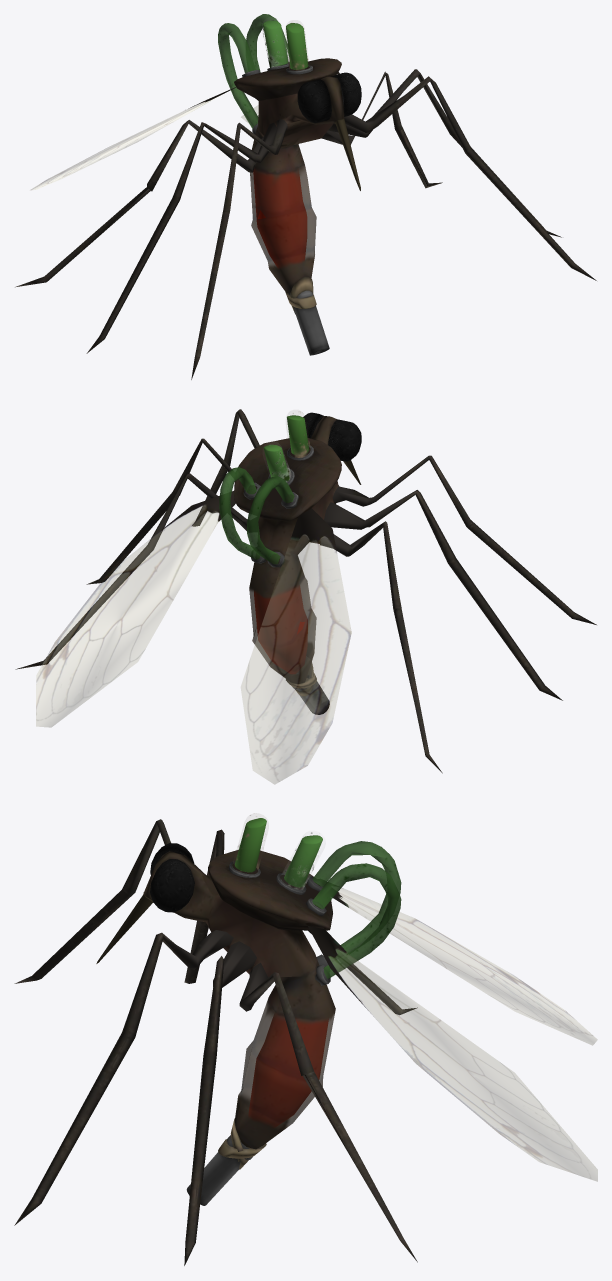
Rendered from mosquito_3D.glb.
3 renders of one model, top to bottom at view 1: azimuth 30°, elevation 25°; view 2: azimuth 150°, elevation 25°; view 3: azimuth 270°, elevation 25°, orthographic. The views are drawn at different scales.
Parts seen in each view (by area): view 1: Mosquito_Cuerpo_Mosquito_0, Interior_Liquido_Liquido_Interior_0, Mosquito_Pata_1_Izquierda_0, Mosquito_Pata_2_Derecha_0, Mosquito_Joroba_Mosquito_0, Mosquito_Pata_1_Derecha_0, Mosquito_Pata_3_Derecha_0, Mosquito_Ojos_0, Tubo_2_Tubo_Derecho_0, Mosquito_Ala_Derecha_0, Mosquito_Pata_2_Izquierda_0, Canon_Canon1_0 (+5 smaller); view 2: Mosquito_Ala_Derecha_0, Mosquito_Ala_Izquierda_0, Mosquito_Cuerpo_Mosquito_0, Mosquito_Joroba_Mosquito_0, Interior_Liquido_Liquido_Interior_0, Mosquito_Pata_2_Derecha_0, Mosquito_Pata_1_Derecha_0, Mosquito_Pata_3_Derecha_0, Mosquito_Pata_3_Izquierda_0, Tubo_2_Tubo_Derecho_0, Tubo_1_Tubo_Izquierdo_0, Mosquito_Ojos_0 (+5 smaller); view 3: Mosquito_Cuerpo_Mosquito_0, Mosquito_Ala_Izquierda_0, Mosquito_Ala_Derecha_0, Mosquito_Joroba_Mosquito_0, Interior_Liquido_Liquido_Interior_0, Mosquito_Pata_1_Izquierda_0, Mosquito_Pata_2_Izquierda_0, Mosquito_Pata_3_Izquierda_0, Tubo_1_Tubo_Izquierdo_0, Mosquito_Pata_1_Derecha_0, Tubo_2_Tubo_Derecho_0, Mosquito_Ojos_0 (+7 smaller).
Part boxes in pixels (x1,y1,x2,y2): Mosquito_Cuerpo_Mosquito_0: [250, 76, 344, 293]; Interior_Liquido_Liquido_Interior_0: [253, 169, 307, 267]; Mosquito_Pata_1_Izquierda_0: [344, 76, 596, 280]; Mosquito_Pata_2_Derecha_0: [86, 122, 276, 353]; Mosquito_Joroba_Mosquito_0: [234, 58, 341, 100]; Mosquito_Pata_1_Derecha_0: [191, 119, 287, 379]; Mosquito_Pata_3_Derecha_0: [15, 120, 264, 287]; Mosquito_Ojos_0: [297, 72, 361, 123]; Tubo_2_Tubo_Derecho_0: [218, 23, 258, 128]; Mosquito_Ala_Derecha_0: [31, 87, 236, 189]; Mosquito_Pata_2_Izquierda_0: [328, 69, 561, 237]; Canon_Canon1_0: [289, 290, 329, 355]; Mosquito_Ala_Derecha_0: [241, 508, 351, 784]; Mosquito_Ala_Izquierda_0: [36, 491, 235, 727]; Mosquito_Cuerpo_Mosquito_0: [249, 416, 339, 683]; Mosquito_Joroba_Mosquito_0: [234, 438, 341, 521]; Interior_Liquido_Liquido_Interior_0: [254, 585, 307, 673]; Mosquito_Pata_2_Derecha_0: [324, 490, 562, 700]; Mosquito_Pata_1_Derecha_0: [332, 455, 596, 624]; Mosquito_Pata_3_Derecha_0: [319, 521, 442, 773]; Mosquito_Pata_3_Izquierda_0: [15, 473, 247, 669]; Tubo_2_Tubo_Derecho_0: [247, 476, 294, 564]; Tubo_1_Tubo_Izquierdo_0: [219, 467, 259, 559]; Mosquito_Ojos_0: [303, 412, 361, 461]; Mosquito_Cuerpo_Mosquito_0: [143, 851, 335, 1149]; Mosquito_Ala_Izquierda_0: [308, 926, 597, 1181]; Mosquito_Ala_Derecha_0: [325, 882, 597, 1045]; Mosquito_Joroba_Mosquito_0: [208, 850, 332, 930]; Interior_Liquido_Liquido_Interior_0: [248, 1013, 328, 1127]; Mosquito_Pata_1_Izquierda_0: [14, 930, 233, 1225]; Mosquito_Pata_2_Izquierda_0: [184, 941, 256, 1265]; Mosquito_Pata_3_Izquierda_0: [239, 962, 417, 1262]; Tubo_1_Tubo_Izquierdo_0: [312, 863, 401, 978]; Mosquito_Pata_1_Derecha_0: [14, 819, 170, 983]; Tubo_2_Tubo_Derecho_0: [312, 841, 401, 962]; Mosquito_Ojos_0: [150, 843, 194, 912].
Size of the model in its own units: 0.5217 by 0.3333 by 0.4529.
Materials: 24 (20 with a texture image).
